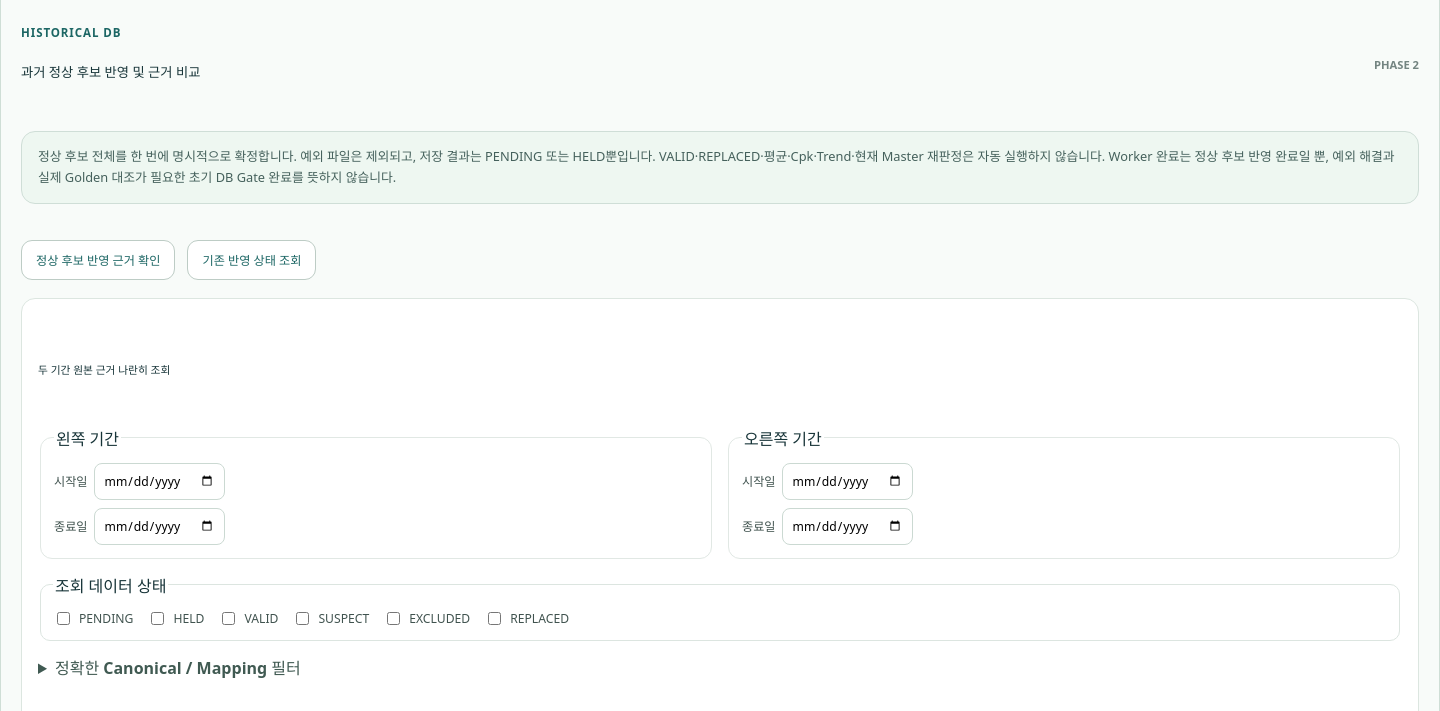
Scenario: HistoricalWorkspacePanel › DQ-P2-BULKFINALUI-002 명시 사유와 전체 확인 뒤 비동기 반영 상태를 재조회한다
This screenshot has width=1440, height=711.
Click the button "정상 후보 반영 근거 확인". click: [98, 260]
box: [21, 240, 176, 280]
(page scrolled)
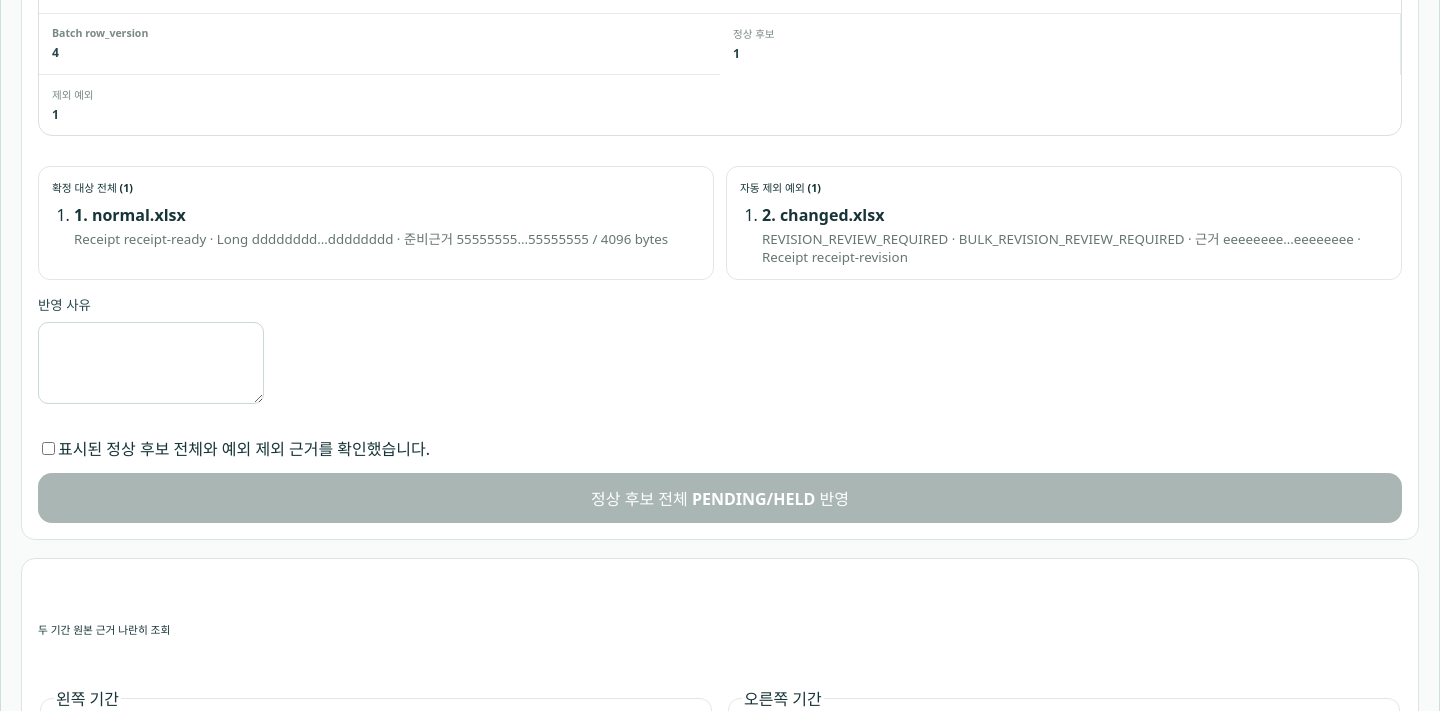
Type "과거 자료 정상 후보 일괄 반영" into the text box labelled "반영 사유". click: [151, 363]
box: [38, 322, 264, 404]
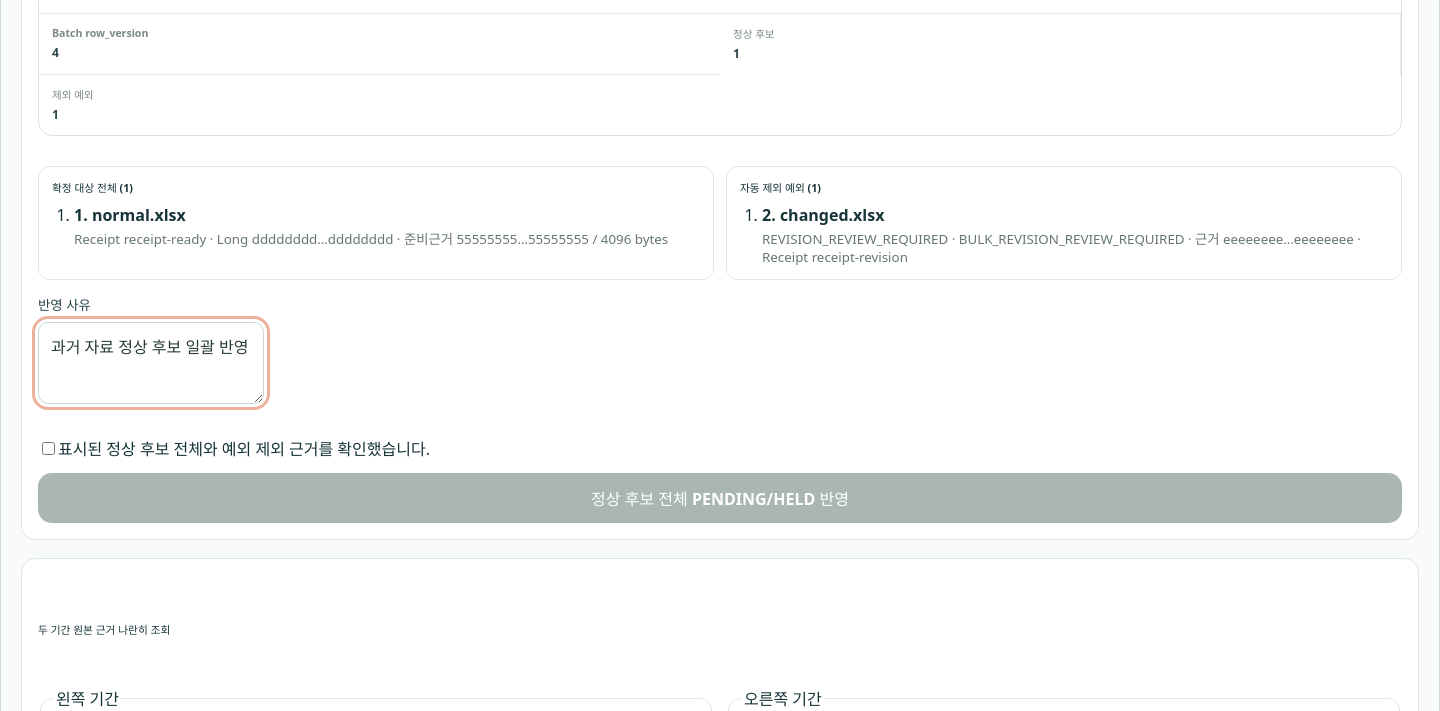
Click the checkbox labelled "표시된 정상 후보 전체와 예외 제외 근거를 확인했습니다.". click: [48, 449]
box: [42, 442, 55, 455]
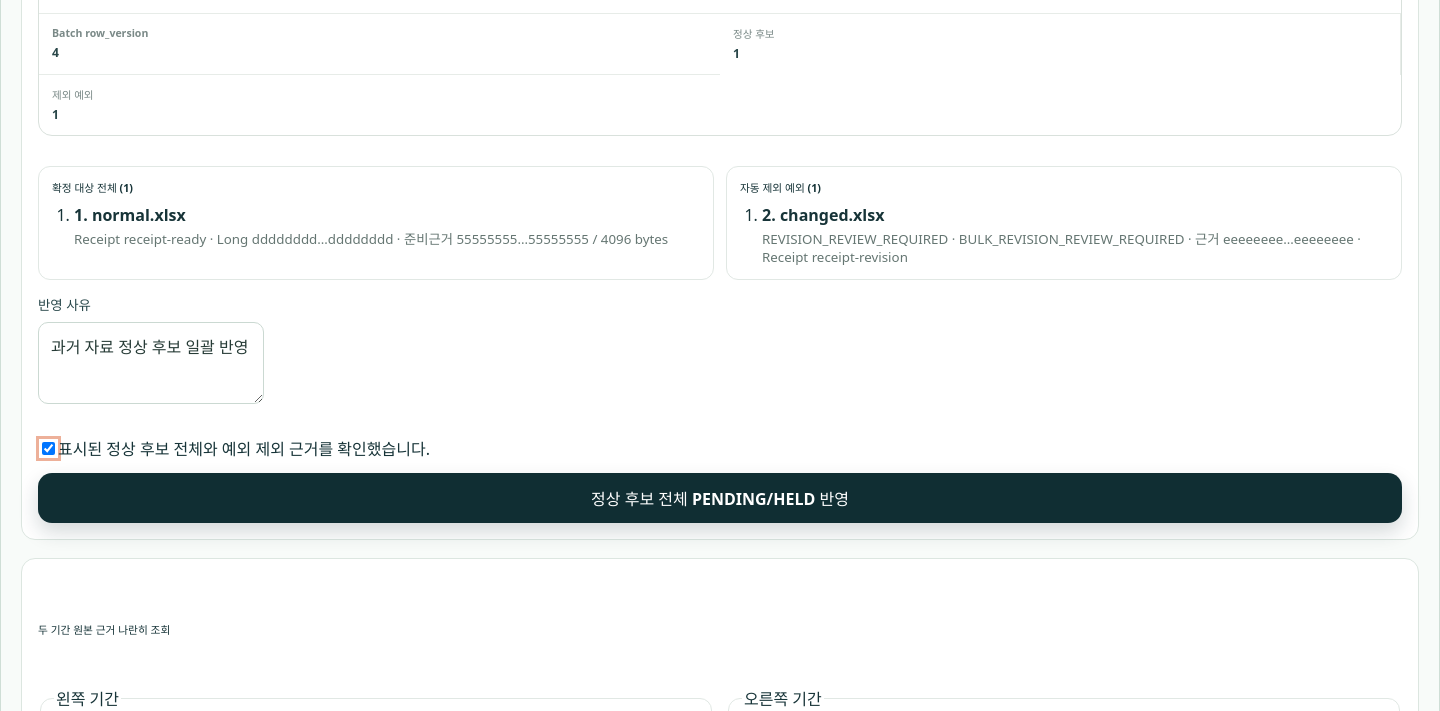
Click the button "정상 후보 전체 PENDING/HELD 반영". click: [720, 498]
box: [38, 473, 1402, 523]
(page scrolled)
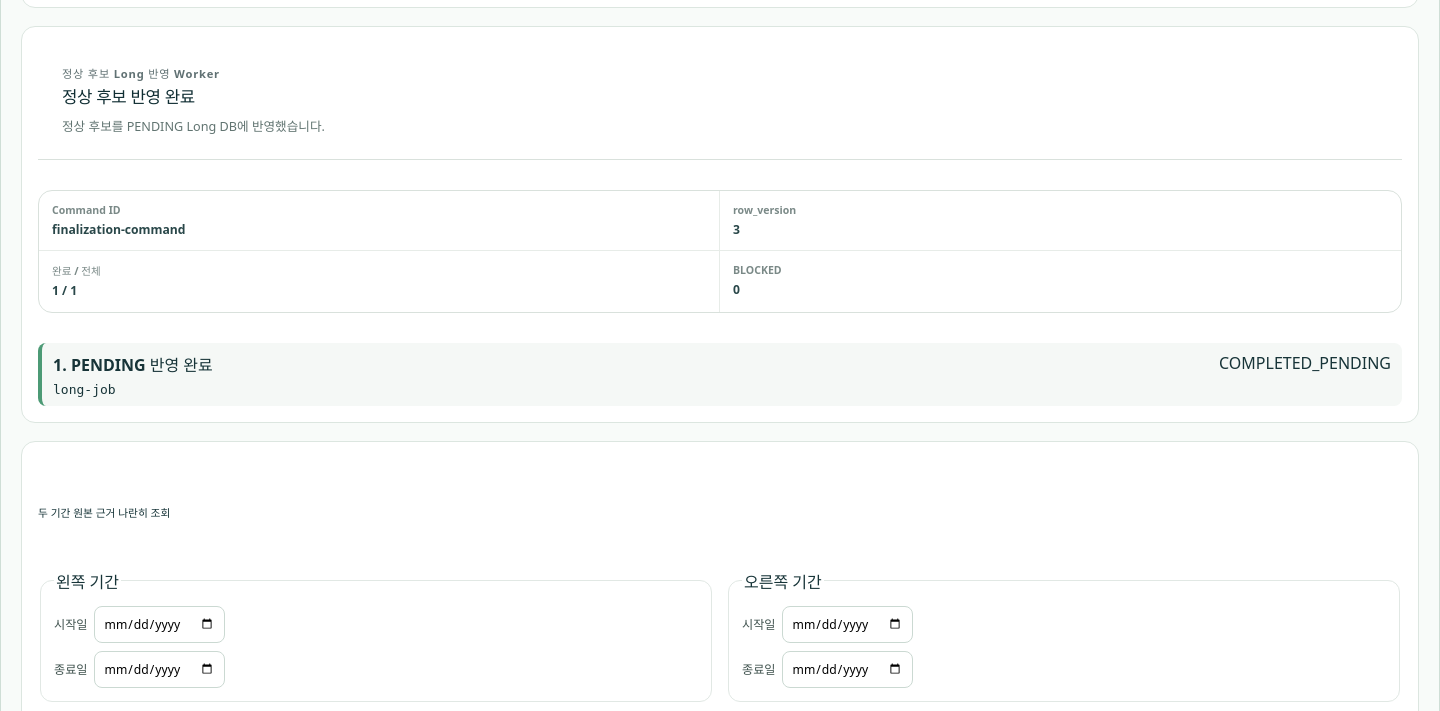
Check: the text "정상 후보를 PENDING Long DB에 반영했습니다." is shown, box [62, 117, 325, 135]
Check: the text "COMPLETED_PENDING" is shown, box [1219, 352, 1391, 376]
